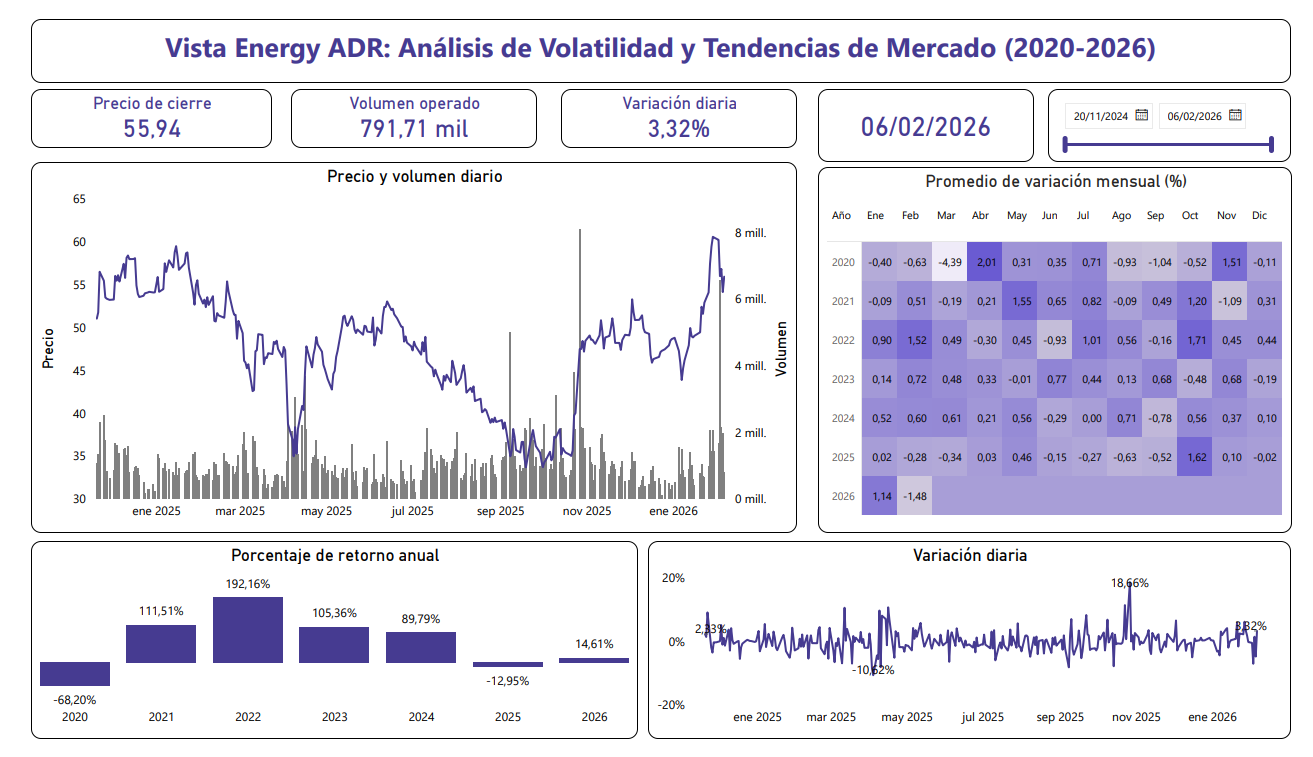

Layout of this report page (visuals, bound fields, positions):
{"tool":"powerbi","page":{"name":"Dashboard","canvas":[1280,720],"ordinal":0},"visuals":[{"type":"lineClusteredColumnComboChart","title":"Precio y volumen diario","fields":{"Y2":["Sum(df_vol_precio_var_2024_2025.Precio)"],"Y":["Sum(df_vol_precio_var_2024_2025.Vol.)"],"Category":["df_vol_precio_var_2024_2025.Fecha"]},"box":[13,143,766,371],"z":0},{"type":"clusteredColumnChart","title":" Porcentaje de retorno anual ","fields":{"Category":["Retorno2.Año"],"Y":["Retorno2.Retorno_porcentaje"]},"box":[12.5,522.1,607.2,197.9],"z":1000},{"type":"card","title":"Precio de cierre","fields":{"Values":["df_vol_precio_var_2024_2025.Precio Último1"]},"box":[13.4,69.9,240.9,59.1],"z":2000},{"type":"card","title":"Volumen operado","fields":{"Values":["df_vol_precio_var_2024_2025.Volumen Último"]},"box":[273.1,69.9,245.4,59.1],"z":3000},{"type":"card","title":"Variación diaria ","fields":{"Values":["df_vol_precio_var_2024_2025.1Ultima VariacionF %"]},"box":[542.7,69.9,236.4,59.1],"z":4000},{"type":"textbox","box":[12.5,0,1260.9,63.6],"z":5000},{"type":"pivotTable","title":"Promedio de variación mensual (%)","fields":{"Rows":["Variacion_mensual.Año"],"Values":["Sum(Variacion_mensual.% var.)"],"Columns":["Variacion_mensual.Mes Nombre"]},"box":[799.7,147.8,474.6,366.3],"z":6000},{"type":"slicer","title":"filtro ","fields":{"Values":["df_vol_precio_var_2024_2025.Fecha"]},"box":[1029.9,69.9,243.6,73.4],"z":7000},{"type":"card","title":"Fecha","fields":{"Values":["df_vol_precio_var_2024_2025.Fecha Seleccionada1"]},"box":[799.7,69.9,215.8,73.4],"z":8000},{"type":"lineChart","title":"Variación diaria","fields":{"Category":["df_vol_precio_var_2024_2025.Fecha"],"Y":["df_vol_precio_var_2024_2025.Variacion Grafico %"]},"box":[630.4,522.1,643,197.9],"z":9001}]}

Visuals, with their boxes in screenshot pixels (x1, y1, x2, y2), scaled from the page's 1280x720 canvas onto the 1313x757 screenshot:
"Precio y volumen diario" lineClusteredColumnComboChart: [13,150,799,540]
" Porcentaje de retorno anual " clusteredColumnChart: [13,549,636,756]
"Precio de cierre" card: [14,73,261,136]
"Volumen operado" card: [280,73,532,136]
"Variación diaria " card: [557,73,799,136]
textbox: [13,0,1306,67]
"Promedio de variación mensual (%)" pivotTable: [820,155,1307,541]
"filtro " slicer: [1056,73,1306,151]
"Fecha" card: [820,73,1042,151]
"Variación diaria" lineChart: [647,549,1306,756]
